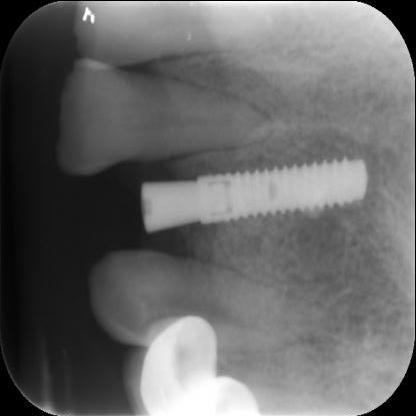ITI: (191, 150, 373, 231)
